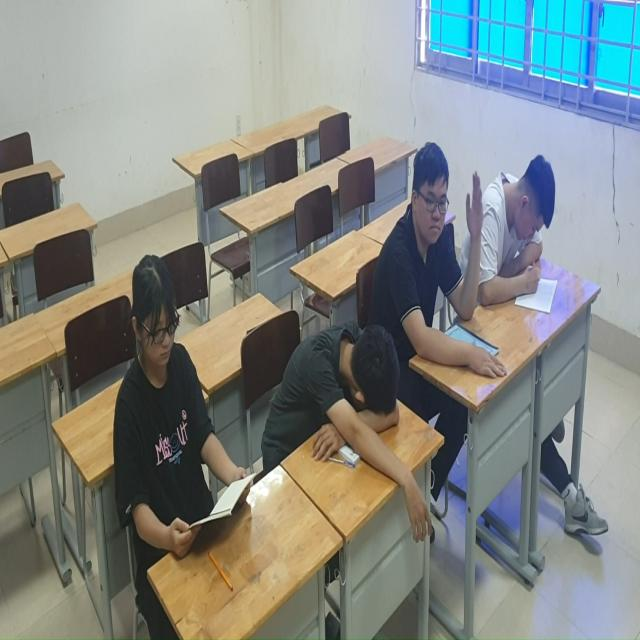raise_hand: (388, 138, 487, 336)
read: (103, 236, 259, 567), (472, 135, 568, 325)
sleep: (262, 306, 434, 541)
